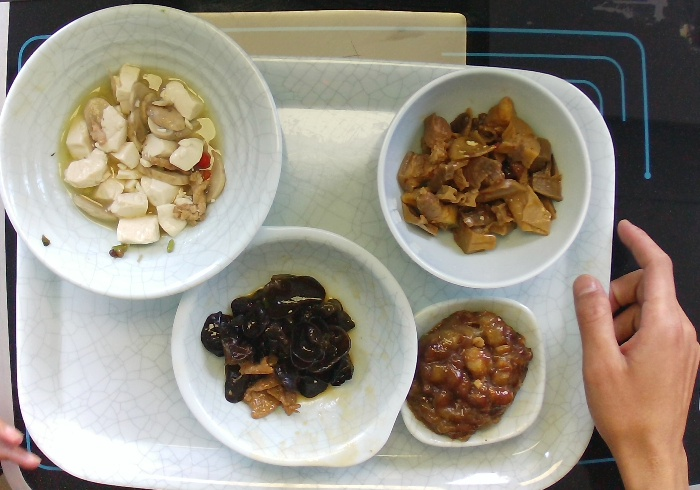JYsf-Fan_Wan: (373, 64, 593, 288)
JYsf-Shuang_Er_Wan: (168, 218, 421, 471)
JYsf-Si_Fang_Die: (397, 292, 548, 452)
JYsf-Xiao_Tang_Wan: (1, 5, 285, 304)
